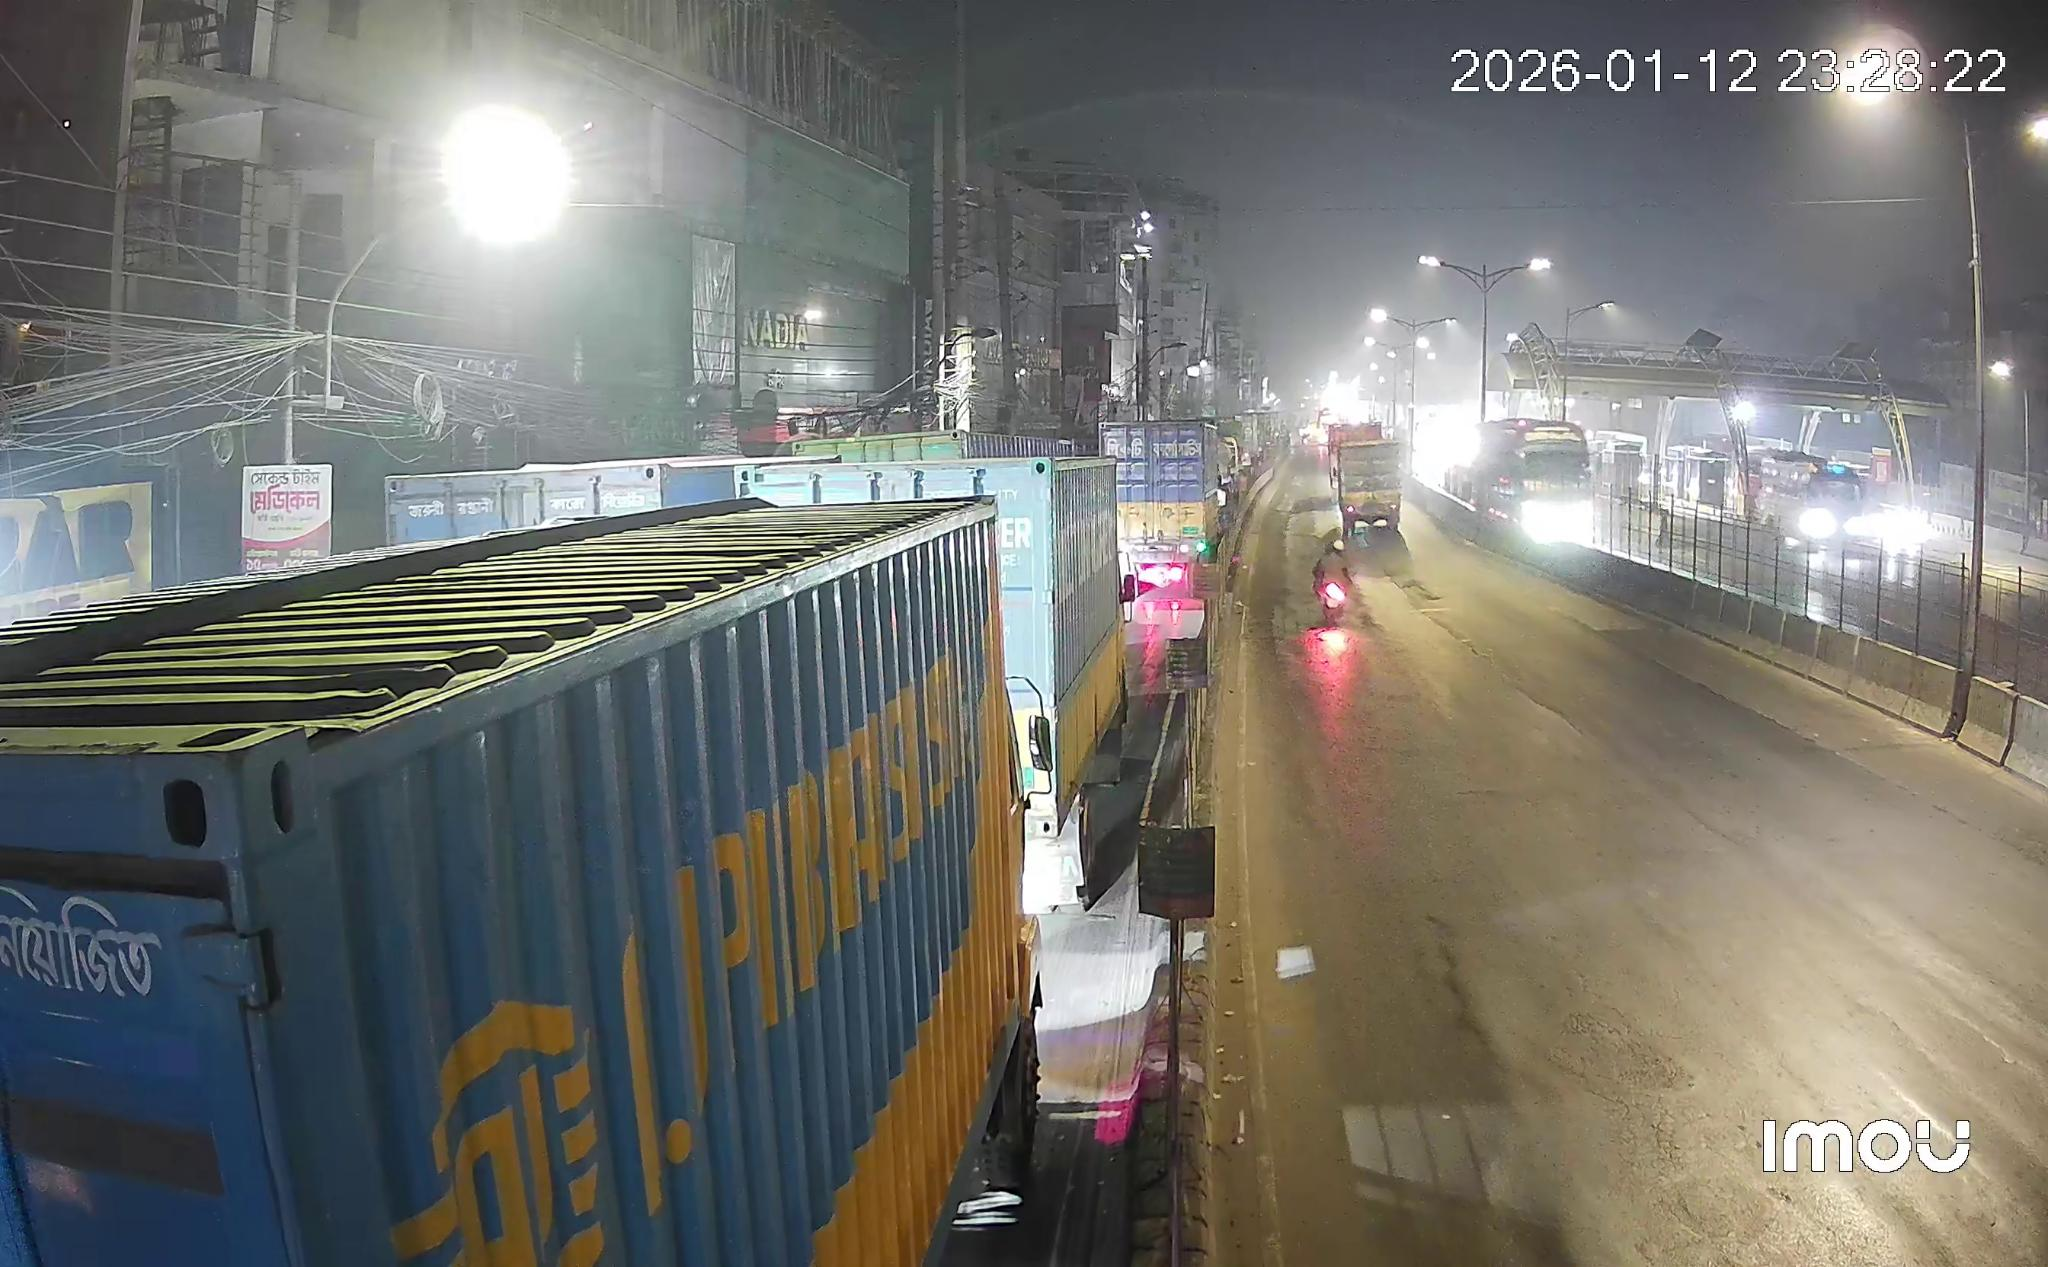Bus: (1442, 417, 1593, 544)
Motorcycle: (1314, 540, 1352, 625)
Truck: (0, 499, 1039, 1267), (736, 456, 1131, 840), (1100, 420, 1229, 593), (1328, 424, 1403, 535)
